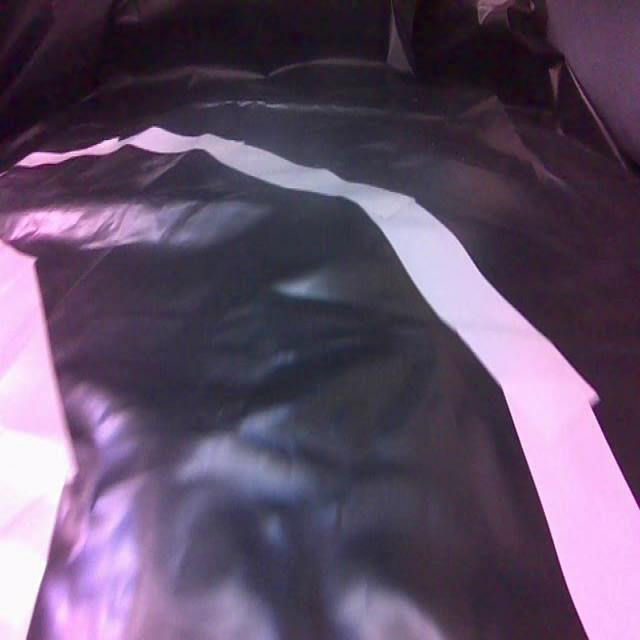LineaCarril: (20, 127, 640, 638), (0, 240, 75, 638)
